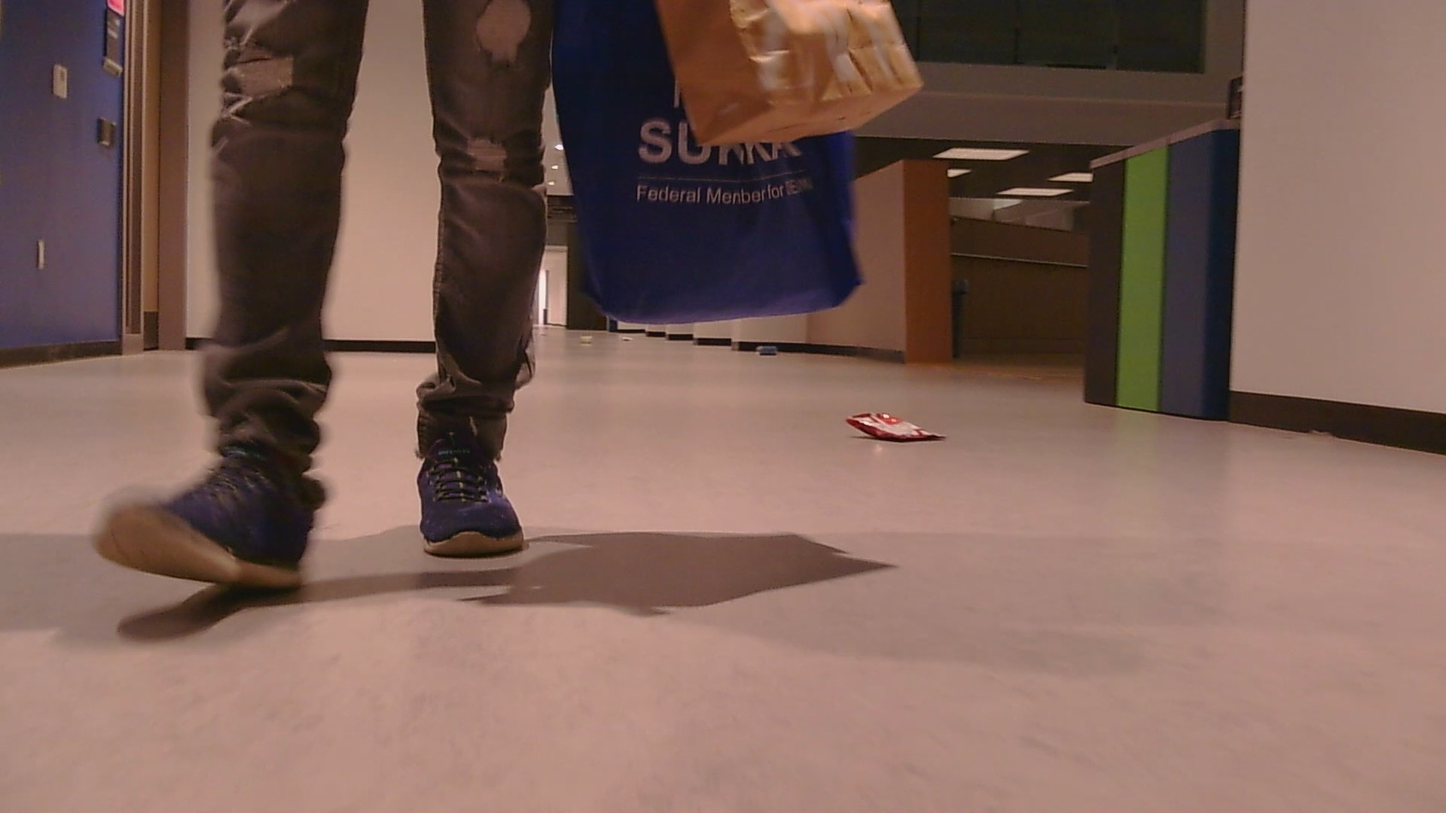carton: (834, 388, 963, 464)
